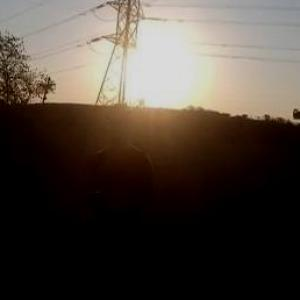follow: (79, 102, 157, 299)
